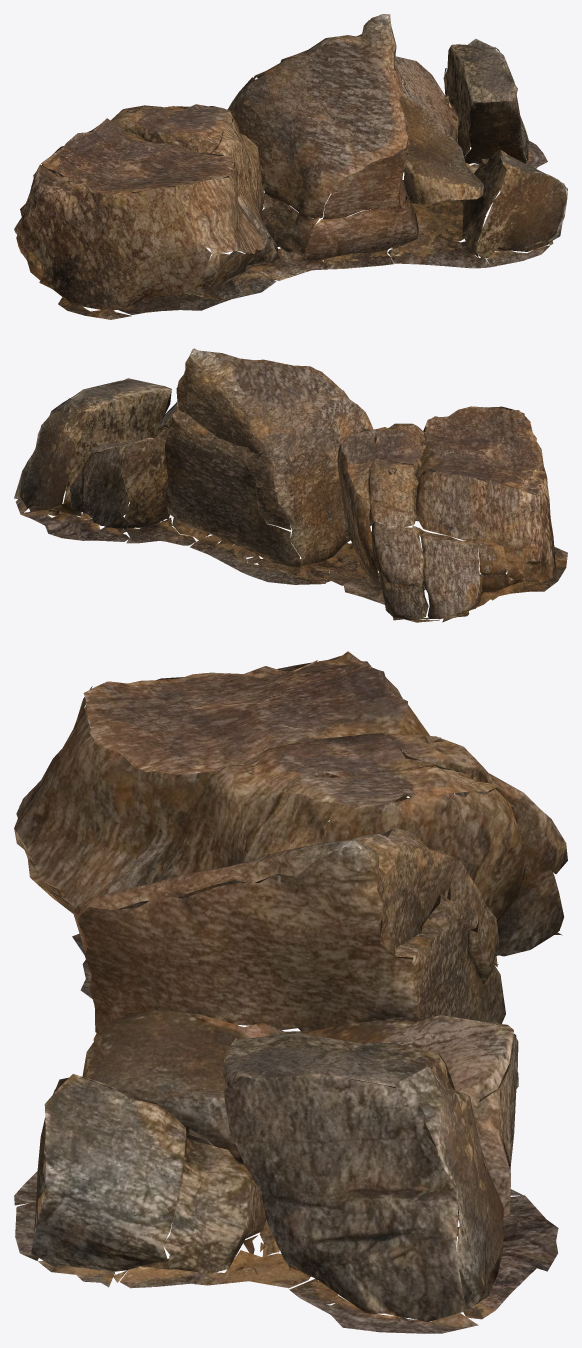
File: namaqualand_boulder_02.glb
3 views of the same model, one above another, from view 1: azimuth 30°, elevation 25°; view 2: azimuth 150°, elevation 25°; view 3: azimuth 270°, elevation 25° (orthographic). The views are drawn at different scales.
Parts seen in each view (by area): view 1: Scanned weathered granite; view 2: Scanned weathered granite; view 3: Scanned weathered granite.
Boxes of the visible parts, x1,y1,x2,y2 form: Scanned weathered granite: [14, 14, 567, 319]; Scanned weathered granite: [14, 348, 567, 622]; Scanned weathered granite: [14, 651, 567, 1333].
Bounding box in the file's own units: 0.9938 × 0.3462 × 0.4855.
1 material, 1 textured.
